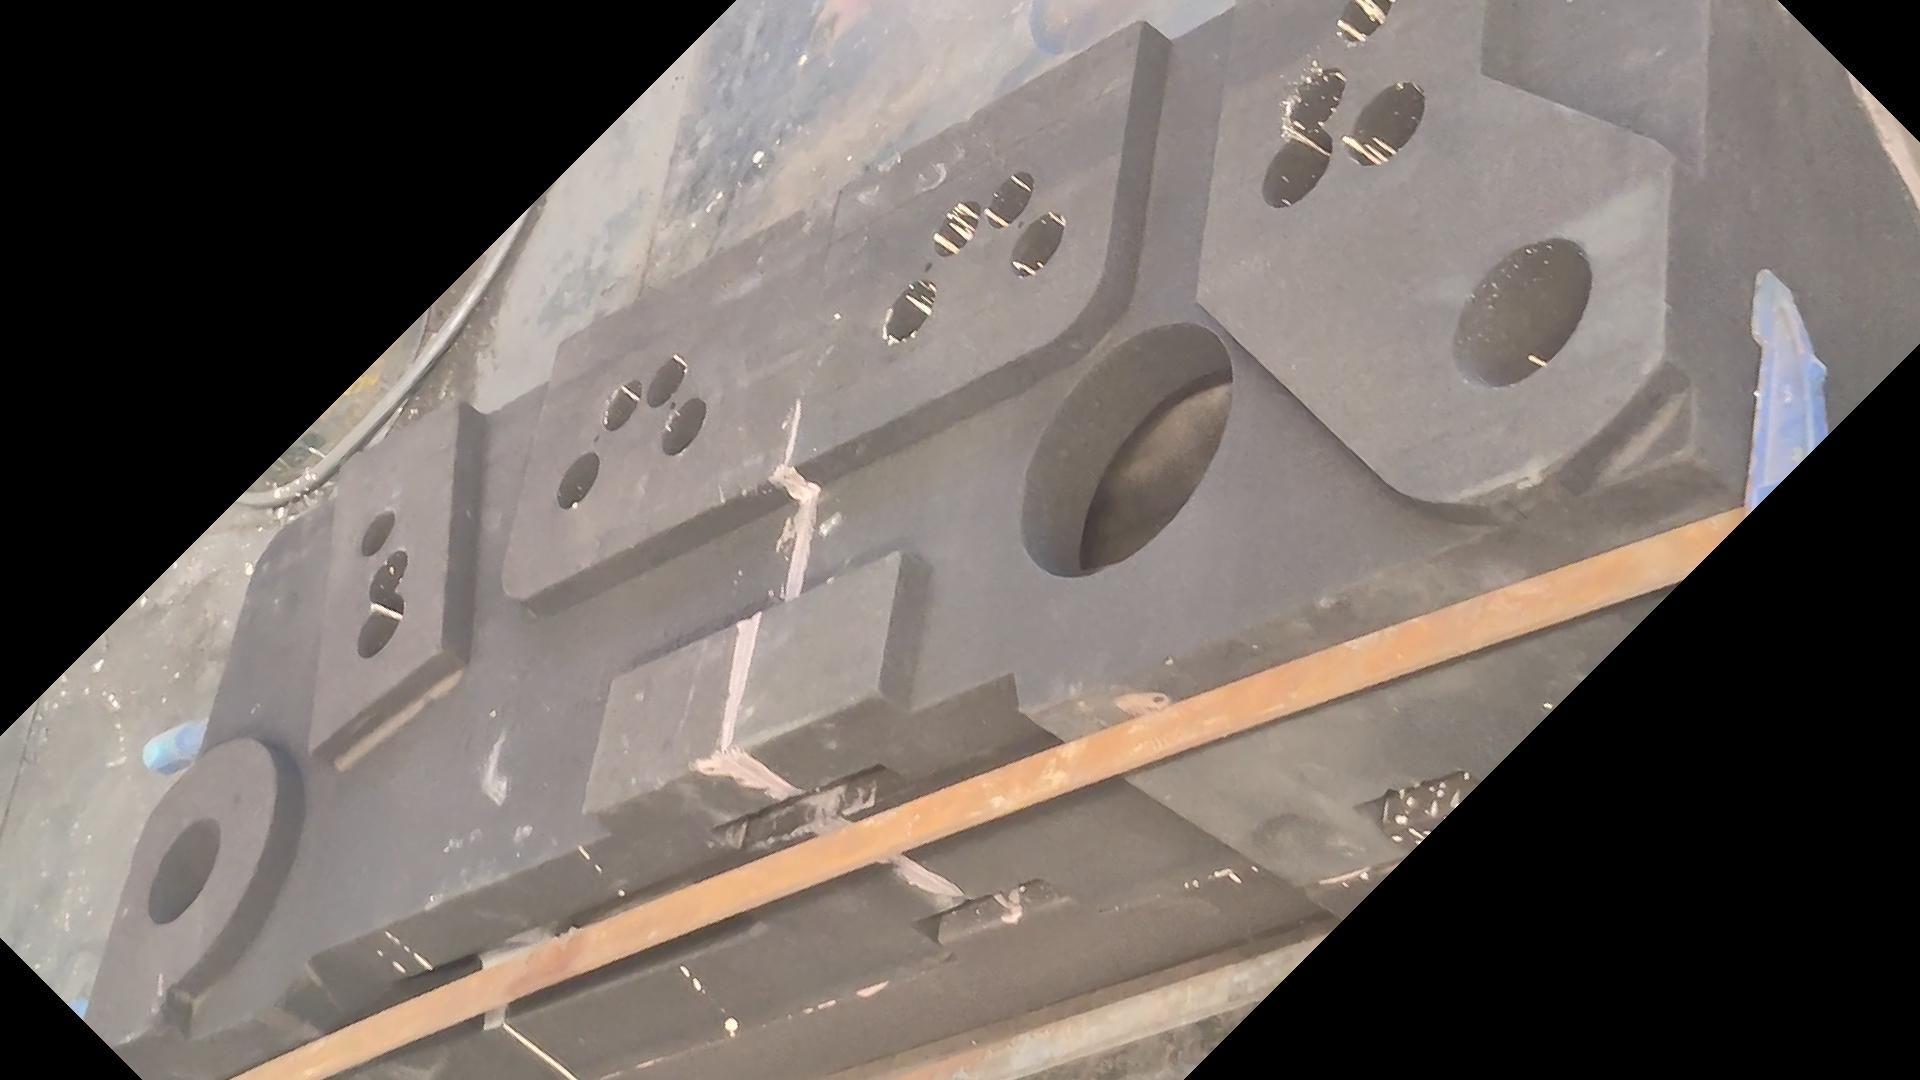pouring hole: (1449, 239, 1590, 389), (149, 816, 219, 926)
